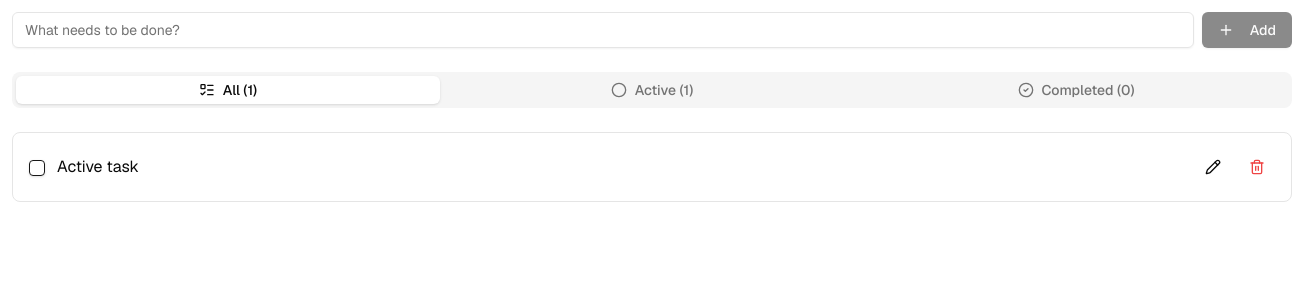
TodoList › should show empty state for completed todos when none are completed
The width and height of the screenshot is (1304, 285).
Click the tab "Completed (0)" at {"x": 1076, "y": 90}, box [864,76,1288,104]
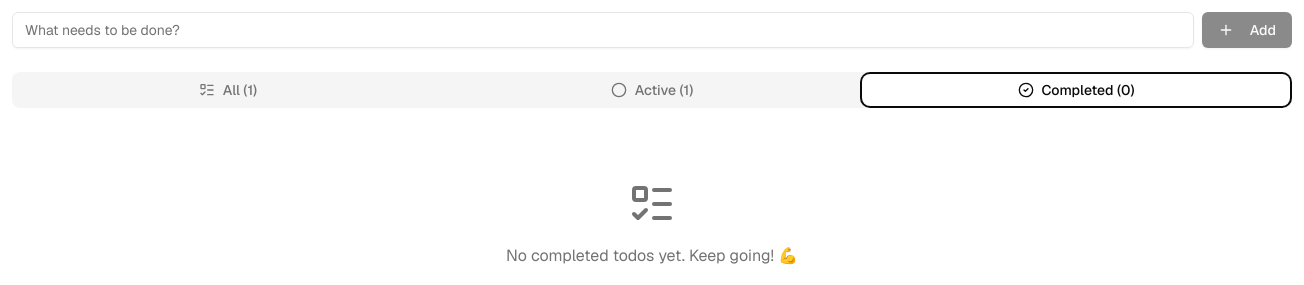
Now the text "No completed todos yet. Keep going! 💪" is shown, box [506,244,798,268]
